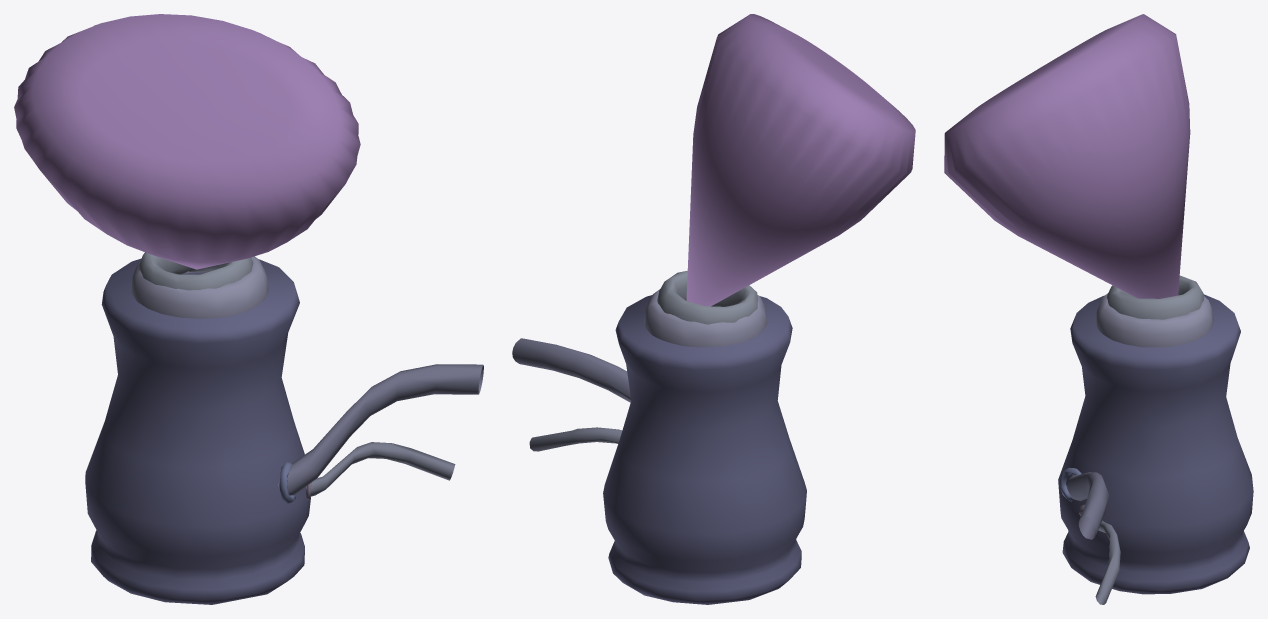
File: machine_part2.glb
The picture shows the model from 3 angles, left to right: view 1: azimuth 30°, elevation 25°; view 2: azimuth 150°, elevation 25°; view 3: azimuth 270°, elevation 25°; orthographic projection. The views are drawn at different scales.
Visible parts, largest first — view 1: maquina_part2; view 2: maquina_part2; view 3: maquina_part2.
Part boxes in pixels (bbox=[...]): maquina_part2: bbox=[14, 14, 483, 604]; maquina_part2: bbox=[512, 14, 915, 604]; maquina_part2: bbox=[944, 14, 1253, 604].
Size of what is drawn, in the model's own units: 2.54 by 3.17 by 1.77.
